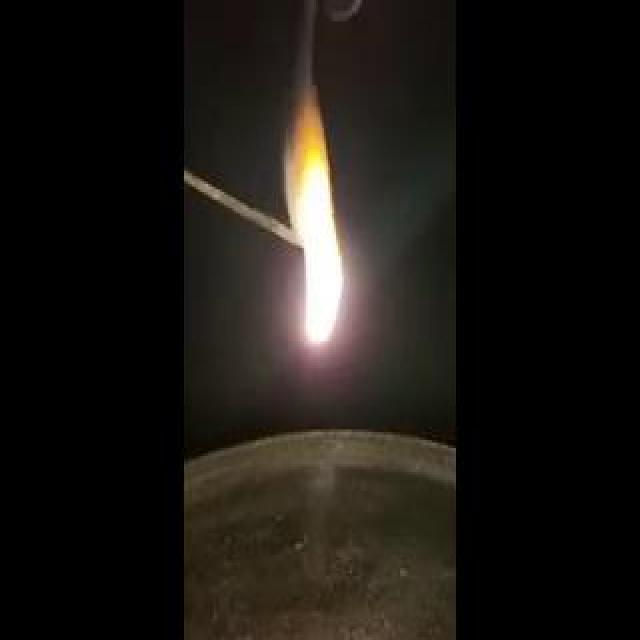Fire: (82, 236, 314, 262)
